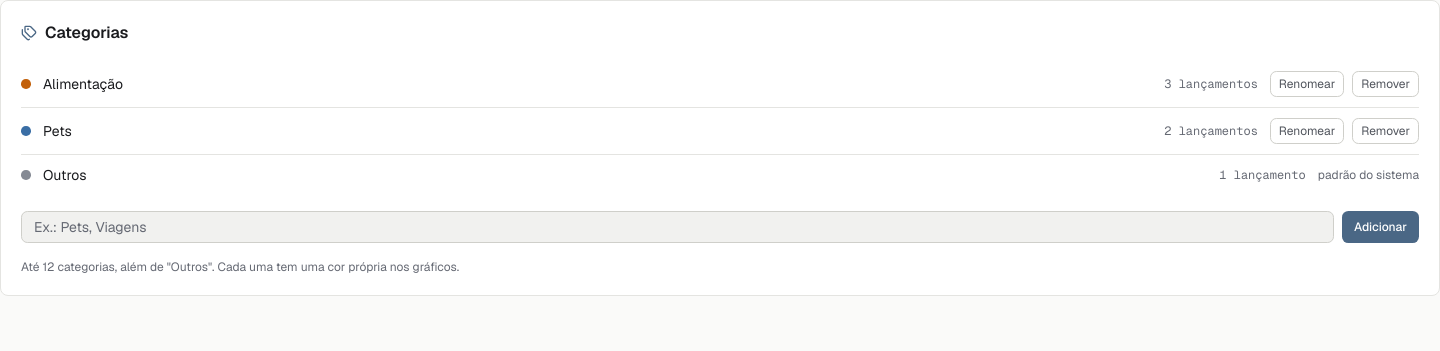
Test: CategoriasSection — renomear › erro mantém o campo aberto e mostra o motivo; cancelar fecha
Click the button with aria-label "Renomear Pets" at (1307, 131), box [1270,118,1344,144]
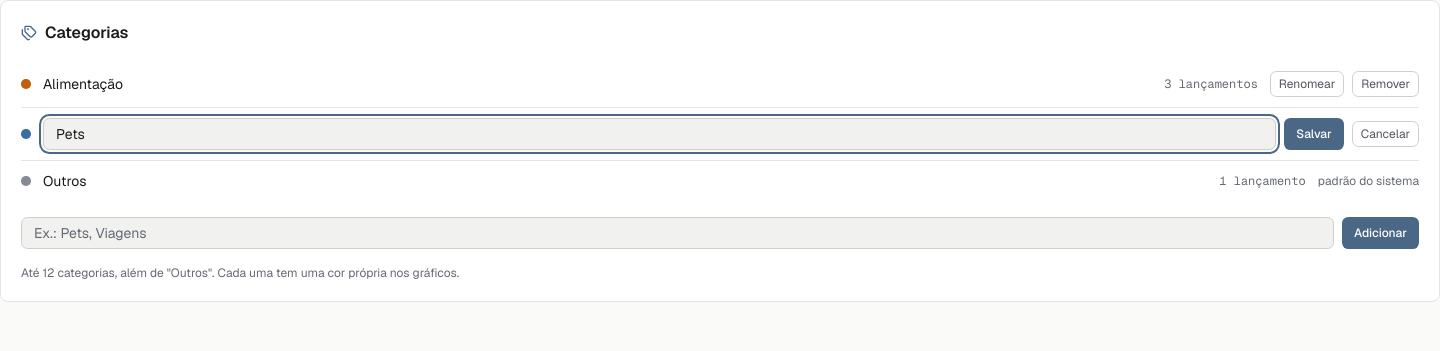
Click the button "Salvar" at (1314, 134), box [1284,118,1344,150]
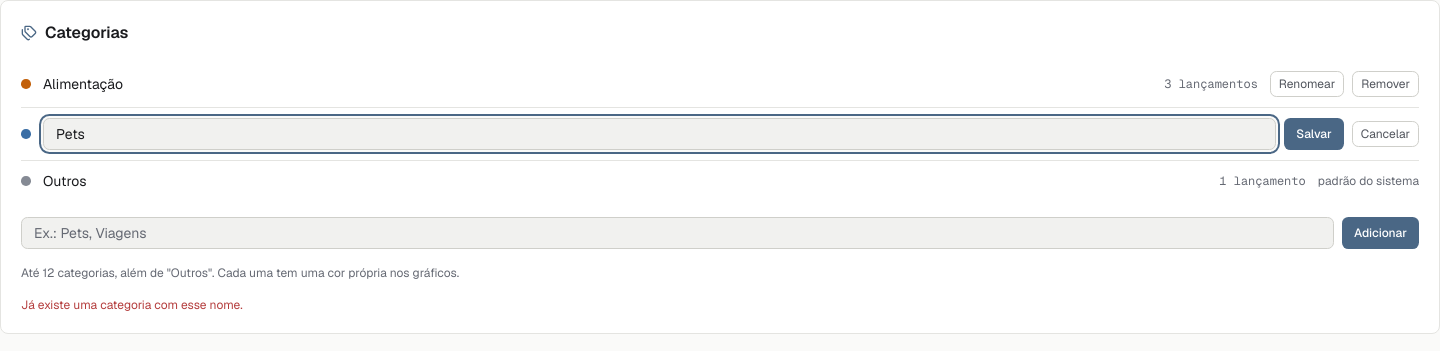
Expected: the field named "Novo nome de Pets" is shown, [43,118,1276,150]
Expected: the message shows "Já existe", [21,297,243,313]
Click the button "Cancelar" at (1385, 134), box [1352,121,1419,147]
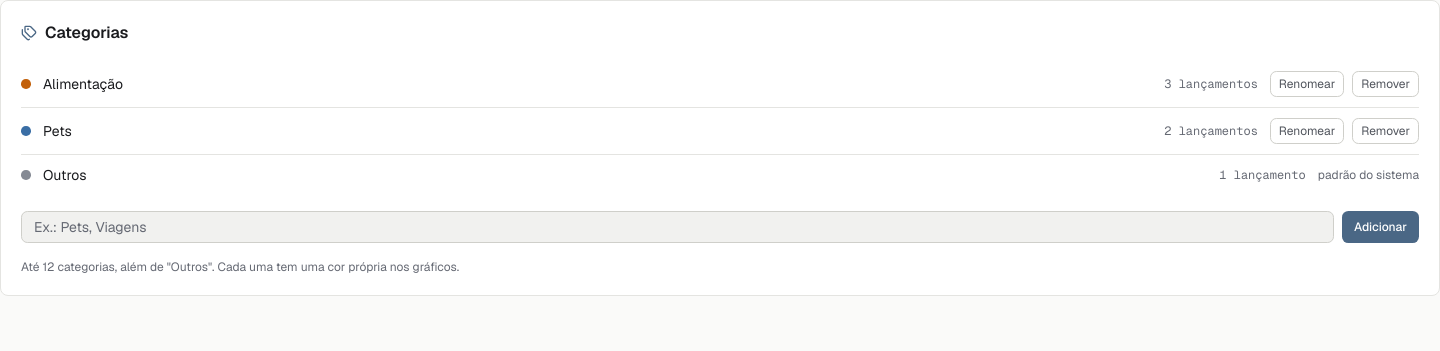
Expected: the message "Já existe uma categoria com esse nome." is gone
